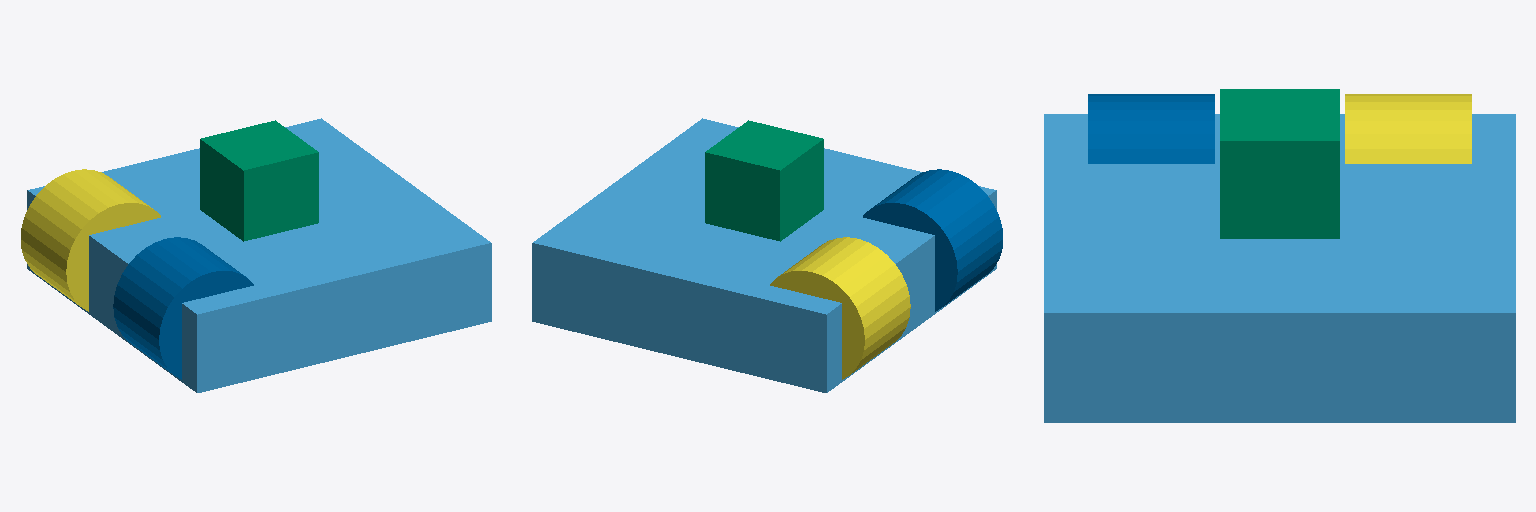
robot.urdf — interfearence:
<?xml version="1.0"?>
<robot name="interfearence">
  <!-- dummy link as Gazebo doesn't allow the base link to have an inertial value -->
  <link name="base_link"/>

  <gazebo>
    <!-- plugin to allow the robot to interface with ros_control -->
    <plugin name="gazebo_ros_control" filename="libgazebo_ros_control.so">
      <robotNamespace>/</robotNamespace>
    </plugin>
    <self_collide>false</self_collide>
  </gazebo>

  <link name="chassis">
    <visual>
      <geometry>
        <box size="0.195 0.195 0.05"/>
      </geometry>
    </visual>
    <collision>
      <geometry>
        <box size="0.165 0.195 0.05"/>
      </geometry>
    </collision>
    <inertial>
      <origin xyz="0 0 0" rpy="0 0 0"/>
      <mass value="2.7"/>
      <inertia
      ixx="0.009118125"
      ixy="0"
      ixz="0"
      iyy="0.009118125"
      iyz="0"
      izz="0.01711125"/>
    </inertial>
  </link>

  <gazebo reference="chassis">
    <mu1>0.2</mu1>
    <mu2>0.2</mu2>
    <maxVel>0.0</maxVel>
    <minDepth>0.001</minDepth>
  </gazebo>

  <joint name="chassis_joint" type="fixed">
    <parent link="base_link"/>
    <child link="chassis"/>
  </joint>

  <link name="hokuyo">
    <visual>
      <geometry>
        <box size="0.05 0.05 0.07"/>
      </geometry>
    </visual>
    <inertial>
      <origin xyz="0 0 0" rpy="0 0 0"/>
      <mass value="0.0"/>
      <inertia
      ixx="0"
      ixy="0"
      ixz="0"
      iyy="0"
      iyz="0"
      izz="0"/>
    </inertial>
  </link>

  <gazebo reference="hokuyo">
    <sensor type="gpu_ray" name="hokuyo_sensor">
      <pose>0 0 0 0 0 0</pose>
      <visualize>true</visualize>
      <always_on>1</always_on>
      <update_rate>30</update_rate>
      <ray>
        <scan>
          <horizontal>
            <samples>640</samples>
            <resolution>1</resolution>
            <min_angle>-2.0944</min_angle>
            <max_angle>2.0944</max_angle>
          </horizontal>
        </scan>
        <range>
          <min>0.08</min>
          <max>2</max>
          <resolution>0.01</resolution>
        </range>
        <noise>
          <type>gaussian</type>
          <mean>0.0</mean>
          <stddev>0.01</stddev>
        </noise>
      </ray>
      <plugin name="laser"
              filename="libgazebo_ros_gpu_laser.so">
        <topicName>laser_scan</topicName>
        <frameName>hokuyo</frameName>
      </plugin>
    </sensor>
  </gazebo>

  <joint name="hokuyo_joint" type="fixed">
    <parent link="chassis"/>
    <child link="hokuyo"/>
    <origin xyz="0 0 0.035"/>
  </joint>

  <link name="left_wheel">
    <visual>
      <geometry>
        <cylinder length="0.0525" radius="0.035"/>
      </geometry>
    </visual>
    <collision>
      <geometry>
        <cylinder length="0.0525" radius="0.035"/>
      </geometry>
    </collision>
    <inertial>
      <origin xyz="0 0 0" rpy="0 0 0"/>
      <mass value="0.150"/>
      <inertia
      ixx="0.00008171562"
      ixy="0"
      ixz="0"
      iyy="0.00008171562"
      iyz="0"
      izz="0.000091875"/>
    </inertial>
  </link>

  <gazebo reference="left_wheel">
    <mu1>0.9</mu1>
    <mu2>0.9</mu2>
    <maxVel>0.0</maxVel>
    <minDepth>0.003</minDepth>
  </gazebo>

  <joint name="left_wheel_joint" type="continuous">
    <parent link="chassis"/>
    <child link="left_wheel"/>
    <axis xyz="0 0 -1"/>
    <origin xyz="-0.0775 0.05325 0.005" rpy="1.57079679 0 0"/>
    <limit effort="0.8" 
           velocity="188.5"/>
  </joint>

  <transmission name="left_wheel_transmission">
    <type>transmission_interface/SimpleTransmission</type>
    <joint name="left_wheel_joint">
      <hardwareInterface>hardware_interface/VelocityJointInterface</hardwareInterface>
    </joint>
    <actuator name="left_wheel_motor"/>
  </transmission>

  <link name="right_wheel">
    <visual>
      <geometry>
        <cylinder length="0.0525" radius="0.035"/>
      </geometry>
    </visual>
    <collision>
      <geometry>
        <cylinder length="0.0525" radius="0.035"/>
      </geometry>
    </collision>
    <inertial>
      <origin xyz="0 0 0" rpy="0 0 0"/>
      <mass value="0.150"/>
      <inertia
      ixx="0.00008171562"
      ixy="0"
      ixz="0"
      iyy="0.00008171562"
      iyz="0"
      izz="0.000091875"/>
    </inertial>
  </link>

  <gazebo link="right_wheel">
    <mu1>0.9</mu1>
    <mu2>0.9</mu2>
    <maxVel>0.0</maxVel>
    <minDepth>0.003</minDepth>
  </gazebo>

  <joint name="right_wheel_joint" type="continuous">
    <parent link="chassis"/>
    <child link="right_wheel"/>
    <axis xyz="0 0 -1"/>
    <origin xyz="-0.0775 -0.05325 0.005" rpy="1.57079679 0 0"/>
    <limit effort="0.8" 
           velocity="188.5"/>
  </joint>

  <transmission name="right_wheel_transmission">
    <type>transmission_interface/SimpleTransmission</type>
    <joint name="right_wheel_joint">
      <hardwareInterface>hardware_interface/VelocityJointInterface</hardwareInterface>
    </joint>
    <actuator name="right_wheel_motor"/>
  </transmission>
</robot>

--- Render facts (derived) ---
Views: 3 orthographic renders of the robot side by side, from view 1: azimuth 30°, elevation 25°; view 2: azimuth 150°, elevation 25°; view 3: azimuth 270°, elevation 25°.
Robot: interfearence — 5 links, 4 joints (2 continuous, 2 fixed); root link base_link; default pose: every joint at zero.
Visible links, largest first — view 1: chassis, hokuyo, right_wheel, left_wheel; view 2: chassis, hokuyo, left_wheel, right_wheel; view 3: chassis, hokuyo, left_wheel, right_wheel.
Link boxes in pixels (x1,y1,x2,y2): chassis: (27, 118, 491, 392); hokuyo: (200, 120, 318, 241); right_wheel: (113, 237, 253, 379); left_wheel: (21, 169, 160, 311); chassis: (532, 118, 996, 392); hokuyo: (705, 120, 823, 241); left_wheel: (770, 237, 910, 379); right_wheel: (863, 169, 1002, 311); chassis: (1044, 114, 1515, 422); hokuyo: (1220, 89, 1339, 238); left_wheel: (1345, 94, 1471, 163); right_wheel: (1088, 94, 1214, 163).
Bounding box of the posed robot: 0.21 × 0.195 × 0.1 m (x, y, z).
Geometry: primitives only (box / cylinder / sphere), no mesh files.